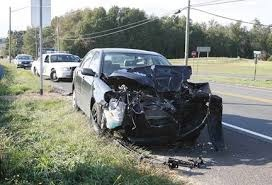Smashed: (93, 69, 221, 155)
